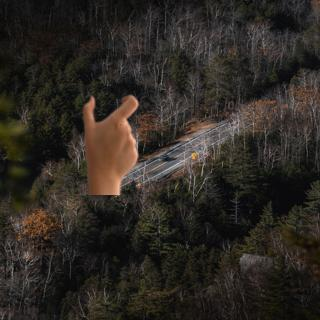Irritated: (78, 91, 142, 197)
